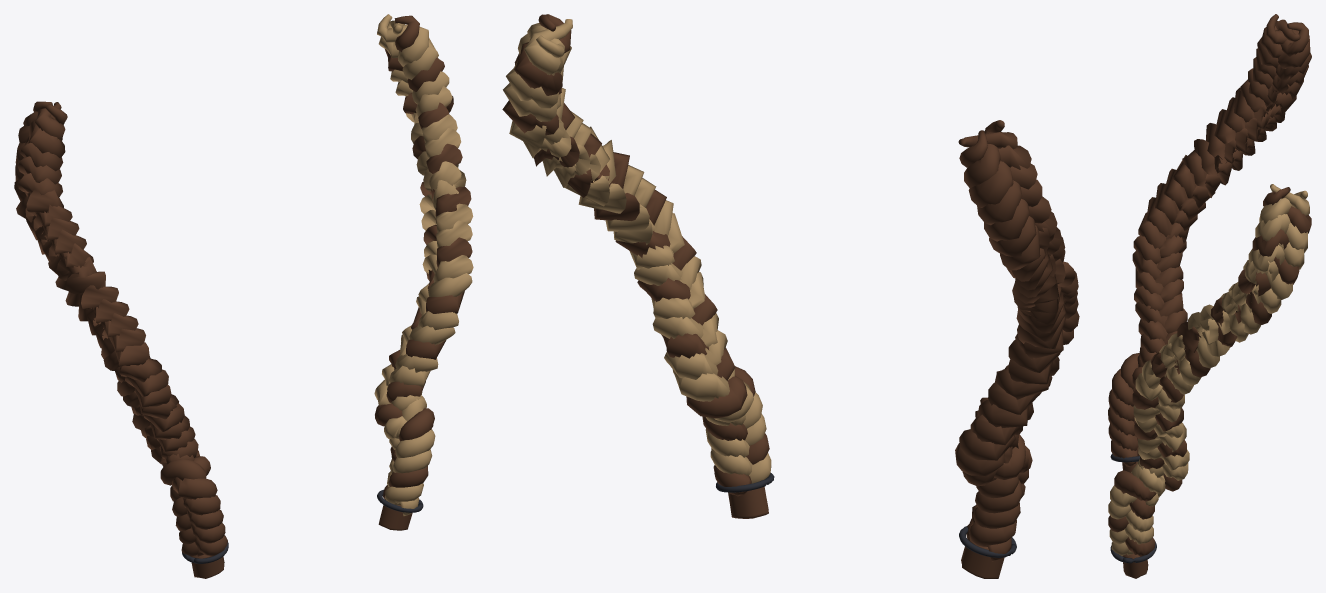
File: Highlights-c9007f15d8b7251-hair.glb
3 views of the same model, side by side, from view 1: azimuth 30°, elevation 25°; view 2: azimuth 150°, elevation 25°; view 3: azimuth 270°, elevation 25° (orthographic). The views are drawn at different scales.
Visible parts, largest first — view 1: 226 hairLengths / Hair / chestnut226, 226 hairLengths / Hair / ties226; view 2: 226 hairLengths / Hair / chestnut226, 226 hairLengths / Hair / ties226; view 3: 226 hairLengths / Hair / chestnut226, 226 hairLengths / Hair / ties226.
Boxes of the visible parts, x1,y1,x2,y2 form: 226 hairLengths / Hair / chestnut226: (14, 14, 473, 578); 226 hairLengths / Hair / ties226: (182, 489, 423, 563); 226 hairLengths / Hair / chestnut226: (502, 14, 1079, 578); 226 hairLengths / Hair / ties226: (716, 473, 1016, 557); 226 hairLengths / Hair / chestnut226: (1108, 14, 1311, 578); 226 hairLengths / Hair / ties226: (1110, 453, 1156, 563).
Size of the model in its own units: 1.09 by 1.06 by 0.4549.
